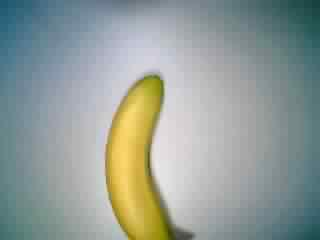banana: (100, 74, 175, 240)
